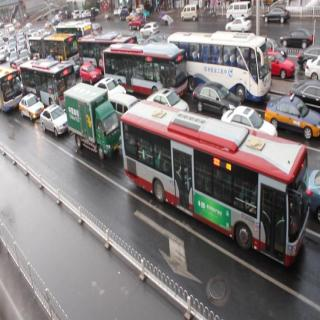BigCar: (121, 101, 305, 280), (167, 29, 268, 96), (99, 39, 186, 99)
Car: (63, 82, 115, 154), (273, 90, 319, 142), (222, 99, 274, 140), (39, 105, 66, 140), (281, 25, 315, 50), (271, 44, 294, 80), (18, 94, 40, 123), (80, 58, 100, 84), (264, 7, 288, 26), (226, 2, 251, 18), (224, 18, 252, 32), (304, 55, 320, 76), (182, 4, 199, 23), (126, 15, 144, 31), (142, 22, 156, 38)
